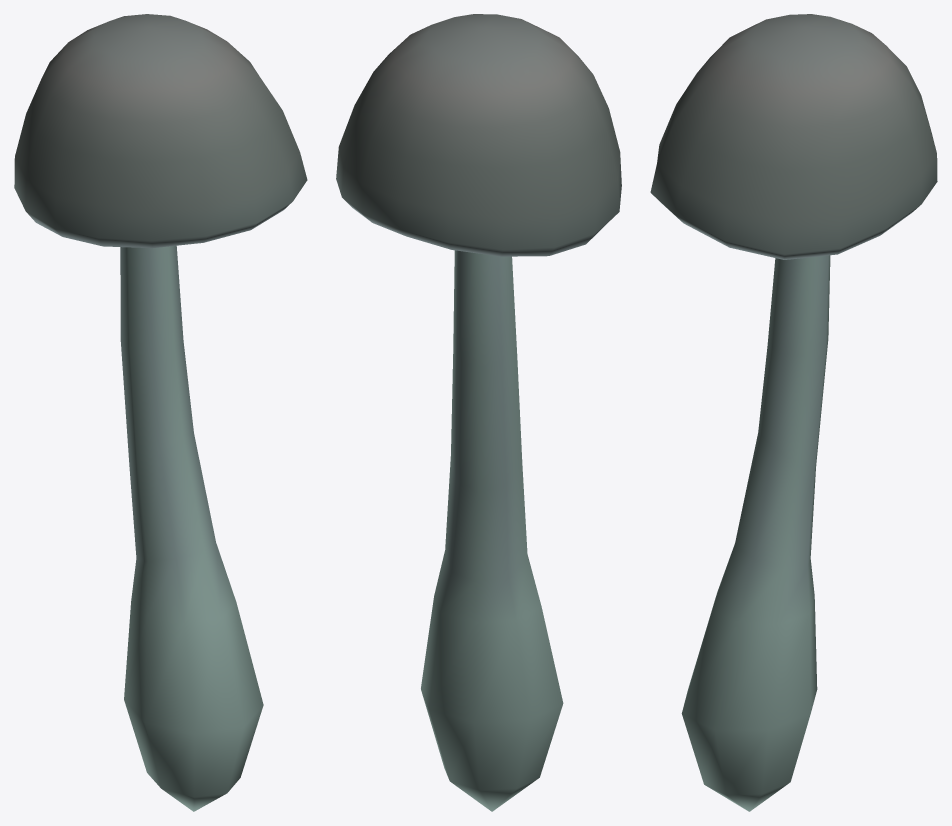
File: plants-mushrooms-pale-blue-mushroom_v2.glb
The picture shows the model from 3 angles, left to right: view 1: azimuth 30°, elevation 25°; view 2: azimuth 150°, elevation 25°; view 3: azimuth 270°, elevation 25°; orthographic projection. The views are drawn at different scales.
Visible parts, largest first — view 1: Pale Blue Mushroom_v2; view 2: Pale Blue Mushroom_v2; view 3: Pale Blue Mushroom_v2.
Part boxes in pixels (<box>): Pale Blue Mushroom_v2: <box>14,14,307,811</box>; Pale Blue Mushroom_v2: <box>336,14,621,811</box>; Pale Blue Mushroom_v2: <box>650,14,937,811</box>.
Size of the model in its own units: 0.0405 by 0.12 by 0.0403.
